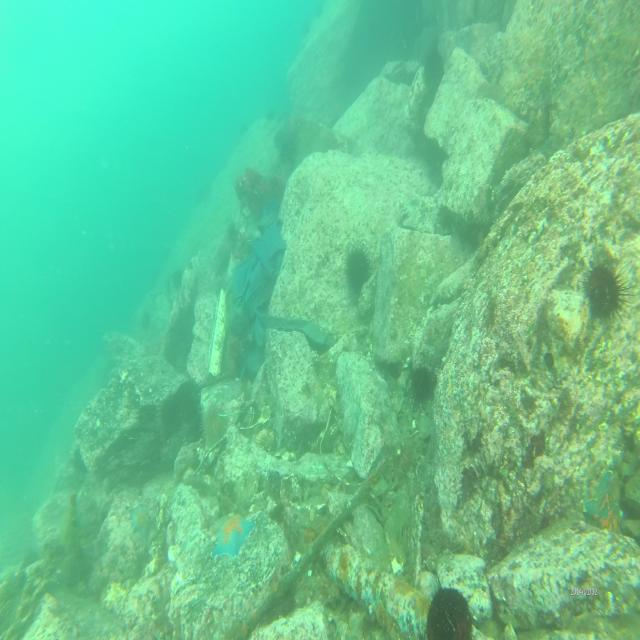echinus: (583, 255, 631, 325), (426, 581, 476, 640), (342, 244, 374, 294), (409, 359, 437, 405), (200, 401, 229, 443), (390, 436, 414, 476)
scallop: (255, 428, 278, 452)
starfish: (582, 468, 629, 536), (212, 511, 255, 559), (129, 502, 153, 538)
